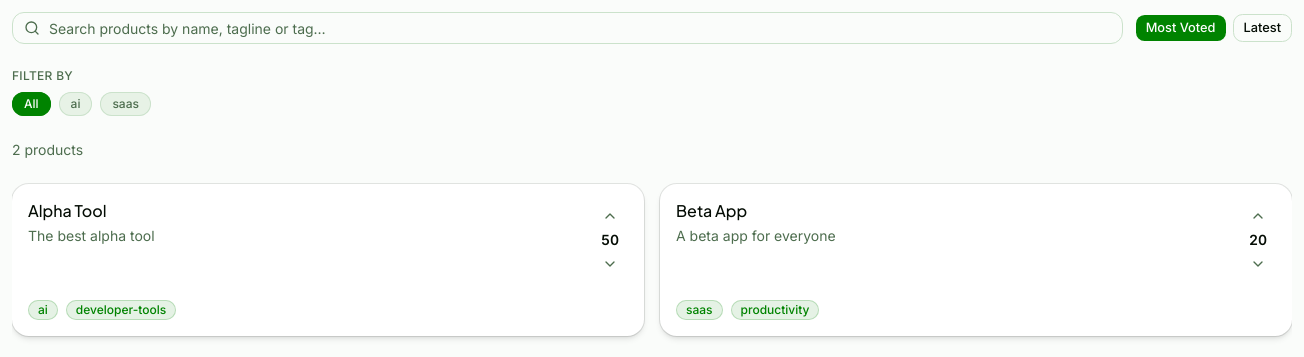
it: ProductGrid › filters products by tag
// click the filter pill (first one in the filter section)
Click the button "ai" below "Filter by" at (76, 104), box 59,92 -> 92,116
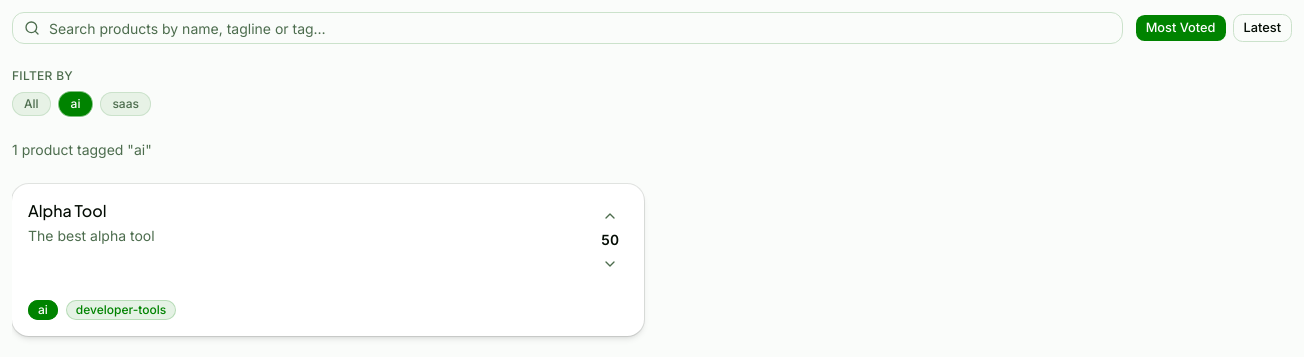
Expected: the text "Alpha Tool" is shown, 28,200 -> 106,221
Expected: the link "Beta App" is gone
